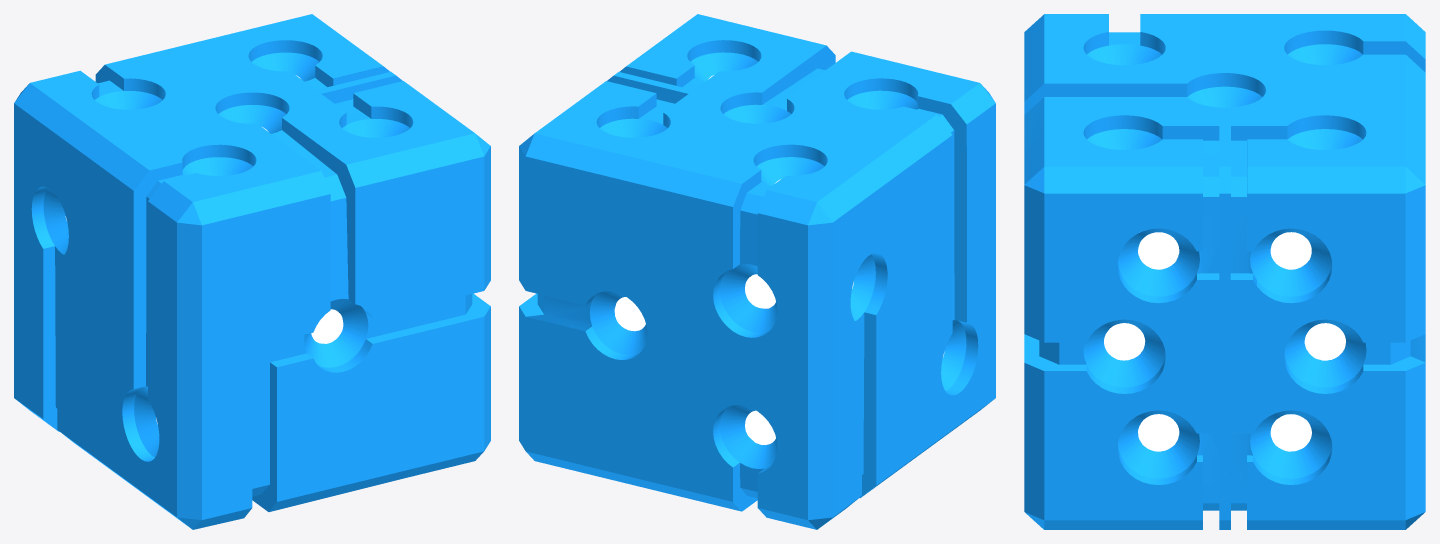
The picture shows the model from 3 angles, left to right: view 1: azimuth 30°, elevation 25°; view 2: azimuth 150°, elevation 25°; view 3: azimuth 270°, elevation 25°; orthographic projection. The views are drawn at different scales.
Visible parts, largest first — view 1: Cube.000, Cube.003; view 2: Cube.000, Cube.003; view 3: Cube.000, Cube.003.
Boxes of the visible parts, x1=… form: Cube.000: x1=14, y1=14, x2=490, y2=529; Cube.003: x1=65, y1=75, x2=343, y2=424; Cube.000: x1=519, y1=14, x2=995, y2=529; Cube.003: x1=614, y1=75, x2=944, y2=444; Cube.000: x1=1024, y1=14, x2=1425, y2=529; Cube.003: x1=1104, y1=232, x2=1345, y2=451.
Size of the model in its own units: 200 by 200 by 200.
